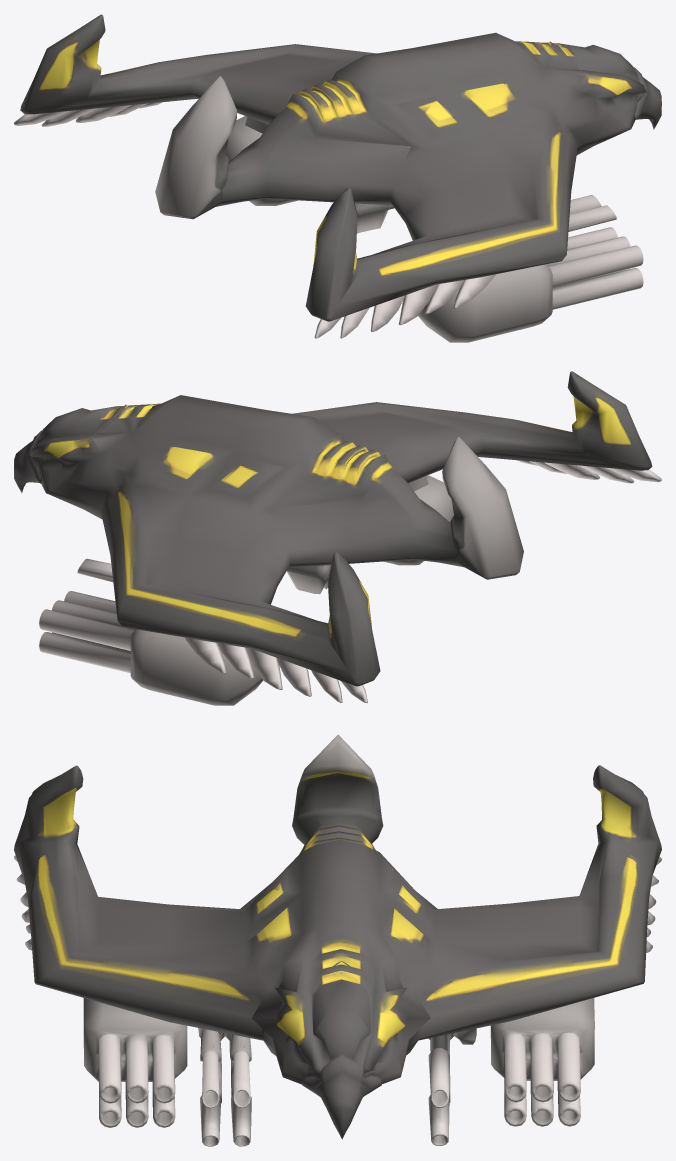
File: skai_thunderhead_v2.glb
The picture shows the model from 3 angles, top to bottom: view 1: azimuth 30°, elevation 25°; view 2: azimuth 150°, elevation 25°; view 3: azimuth 270°, elevation 25°; orthographic projection. The views are drawn at different scales.
Visible parts, largest first — view 1: tripo_node_ca4ed768-6acb-4f2e-8000-8cbb01821603; view 2: tripo_node_ca4ed768-6acb-4f2e-8000-8cbb01821603; view 3: tripo_node_ca4ed768-6acb-4f2e-8000-8cbb01821603.
Boxes of the visible parts, left/top/right/bottom form: tripo_node_ca4ed768-6acb-4f2e-8000-8cbb01821603: left=14, top=14, right=661, bottom=342; tripo_node_ca4ed768-6acb-4f2e-8000-8cbb01821603: left=14, top=371, right=661, bottom=705; tripo_node_ca4ed768-6acb-4f2e-8000-8cbb01821603: left=14, top=734, right=661, bottom=1146.
Bounding box in the file's own units: 0.9712 × 0.4409 × 0.9995.
Materials: 1 (1 with a texture image).
